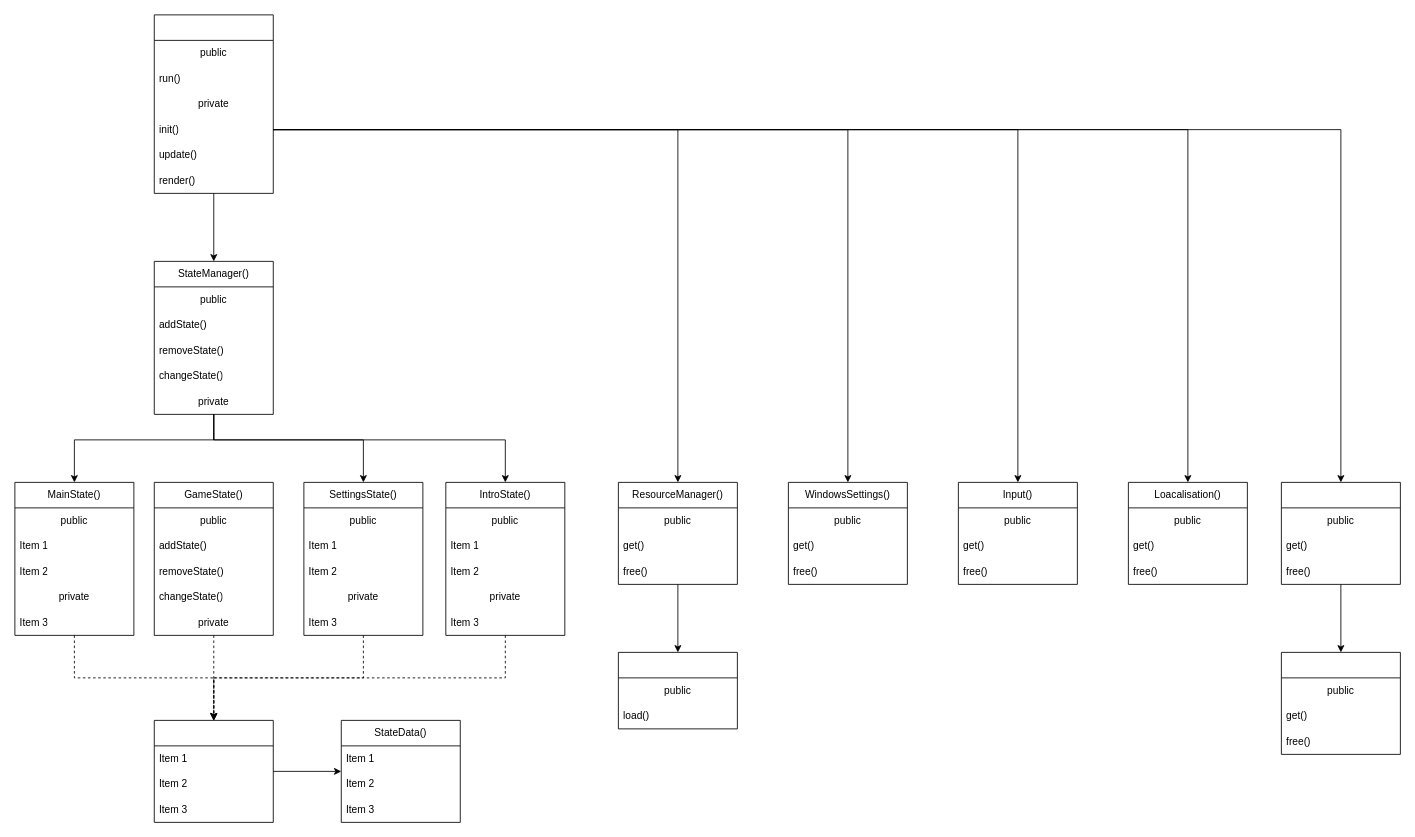
Some shapes in this 1415 by 837 pixel diagram are drawn without their labels. The shapes that lost their labels are listed below. From the top down, each one's box as (x1, y1, x2, y2) in pixels, then its label:
(153, 14, 273, 193): Game()
(1281, 482, 1400, 584): Gameobject()
(618, 652, 737, 729): File()
(1281, 652, 1400, 754): Map()
(153, 720, 273, 822): State
